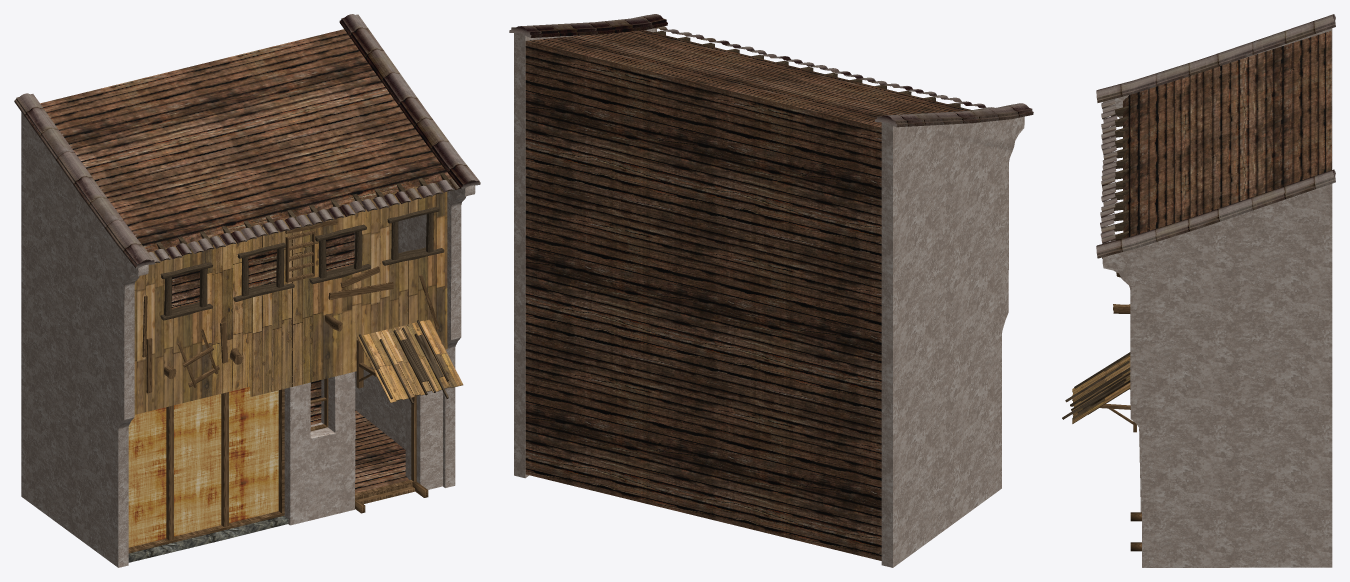
The model's file is house1_LOD1.FBX.
The picture shows the model from 3 angles, left to right: view 1: azimuth 30°, elevation 25°; view 2: azimuth 150°, elevation 25°; view 3: azimuth 270°, elevation 25°; orthographic projection. The views are drawn at different scales.
Parts seen in each view (by area): view 1: outerwalls02, woodenwalls02, frontwall01, paperwall02, roof06, windows_frames02, porch01, side_frame02, tile40, frontwall_props02, floor01, door_frame02 (+3 smaller); view 2: woodenwalls02, outerwalls02, roof06, tile40; view 3: outerwalls02, woodenwalls02, roof06, tile40, porch01, porchprops01, beam_roof01.
Boxes of the visible parts, x1=… form: outerwalls02: x1=21, y1=112, x2=475, y2=567; woodenwalls02: x1=40, y1=29, x2=451, y2=420; frontwall01: x1=134, y1=182, x2=447, y2=414; paperwall02: x1=128, y1=387, x2=278, y2=547; roof06: x1=14, y1=14, x2=480, y2=268; windows_frames02: x1=160, y1=206, x2=444, y2=320; porch01: x1=357, y1=319, x2=463, y2=402; side_frame02: x1=128, y1=389, x2=284, y2=553; tile40: x1=148, y1=178, x2=474, y2=262; frontwall_props02: x1=142, y1=219, x2=439, y2=393; floor01: x1=171, y1=262, x2=409, y2=493; door_frame02: x1=310, y1=378, x2=428, y2=513; woodenwalls02: x1=525, y1=30, x2=971, y2=560; outerwalls02: x1=514, y1=28, x2=1024, y2=567; roof06: x1=509, y1=14, x2=1033, y2=127; tile40: x1=655, y1=26, x2=994, y2=108; outerwalls02: x1=1102, y1=28, x2=1332, y2=567; woodenwalls02: x1=1123, y1=30, x2=1331, y2=238; roof06: x1=1096, y1=14, x2=1335, y2=258; tile40: x1=1100, y1=99, x2=1117, y2=258; porch01: x1=1072, y1=355, x2=1130, y2=423; porchprops01: x1=1062, y1=352, x2=1130, y2=419; beam_roof01: x1=1111, y1=106, x2=1128, y2=240.
Size of what is drawn, in the model's own units: 540 by 601 by 379.
